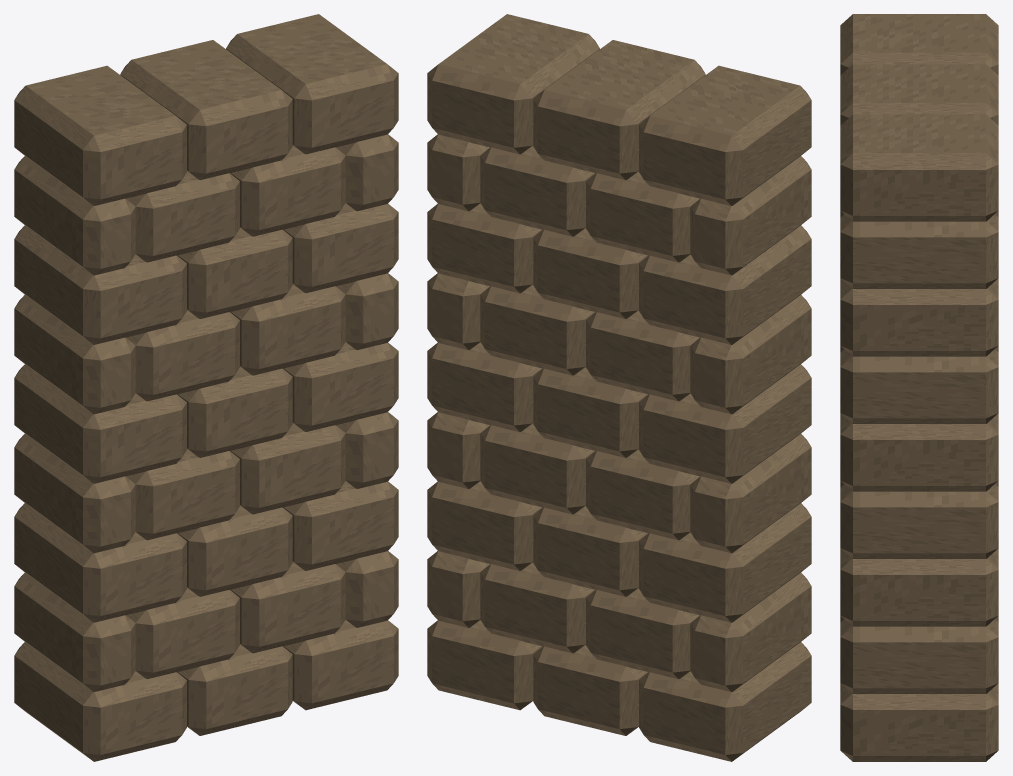
The model's file is f_earthbag_wall.glb.
3 views of the same model, side by side, from view 1: azimuth 30°, elevation 25°; view 2: azimuth 150°, elevation 25°; view 3: azimuth 270°, elevation 25° (orthographic). The views are drawn at different scales.
Visible parts, largest first — view 1: block_bag-8--0.33, block_bag-8-0.33, block_bag-8-0, block_bag-0--0.33, block_bag-4--0.33, block_bag-2--0.33, block_bag-6--0.33, block_bag-5--0.41, block_bag-1--0.41, block_bag-7--0.41, block_bag-3--0.41, block_bag-0-0.33 (+19 smaller); view 2: block_bag-8--0.33, block_bag-8-0.33, block_bag-8-0, block_bag-0--0.33, block_bag-4--0.33, block_bag-2--0.33, block_bag-6--0.33, block_bag-5--0.41, block_bag-1--0.41, block_bag-7--0.41, block_bag-3--0.41, block_bag-0-0.33 (+19 smaller); view 3: block_bag-8-0.33, block_bag-0-0.33, block_bag-4-0.33, block_bag-6-0.33, block_bag-2-0.33, block_bag-1-0.41, block_bag-3-0.41, block_bag-5-0.41, block_bag-7-0.41, block_bag-8-0, block_bag-8--0.33.
Boxes of the visible parts, x1,y1,x2,y2 form: block_bag-8--0.33: (14, 65, 186, 205); block_bag-8-0.33: (226, 14, 398, 154); block_bag-8-0: (120, 40, 292, 180); block_bag-0--0.33: (14, 642, 186, 761); block_bag-4--0.33: (14, 364, 186, 483); block_bag-2--0.33: (14, 503, 186, 622); block_bag-6--0.33: (14, 225, 186, 344); block_bag-5--0.41: (14, 295, 135, 414); block_bag-1--0.41: (14, 572, 135, 691); block_bag-7--0.41: (14, 156, 135, 275); block_bag-3--0.41: (14, 434, 135, 553); block_bag-0-0.33: (283, 620, 398, 710); block_bag-8--0.33: (639, 65, 811, 205); block_bag-8-0.33: (427, 14, 599, 154); block_bag-8-0: (533, 40, 705, 180); block_bag-0--0.33: (639, 642, 811, 761); block_bag-4--0.33: (639, 364, 811, 483); block_bag-2--0.33: (639, 503, 811, 622); block_bag-6--0.33: (639, 225, 811, 344); block_bag-5--0.41: (690, 295, 811, 414); block_bag-1--0.41: (690, 572, 811, 691); block_bag-7--0.41: (690, 156, 811, 275); block_bag-3--0.41: (690, 434, 811, 553); block_bag-0-0.33: (427, 620, 542, 710); block_bag-8-0.33: (840, 114, 998, 221); block_bag-0-0.33: (840, 683, 998, 761); block_bag-4-0.33: (840, 413, 998, 491); block_bag-6-0.33: (840, 278, 998, 356); block_bag-2-0.33: (840, 548, 998, 626); block_bag-1-0.41: (840, 619, 998, 693); block_bag-3-0.41: (840, 484, 998, 558); block_bag-5-0.41: (840, 349, 998, 423); block_bag-7-0.41: (840, 214, 998, 288); block_bag-8-0: (840, 64, 998, 125); block_bag-8--0.33: (840, 14, 998, 74).
Size of the model in its own units: 0.985 by 1.87 by 0.44.
Materials: 1 (1 with a texture image).
